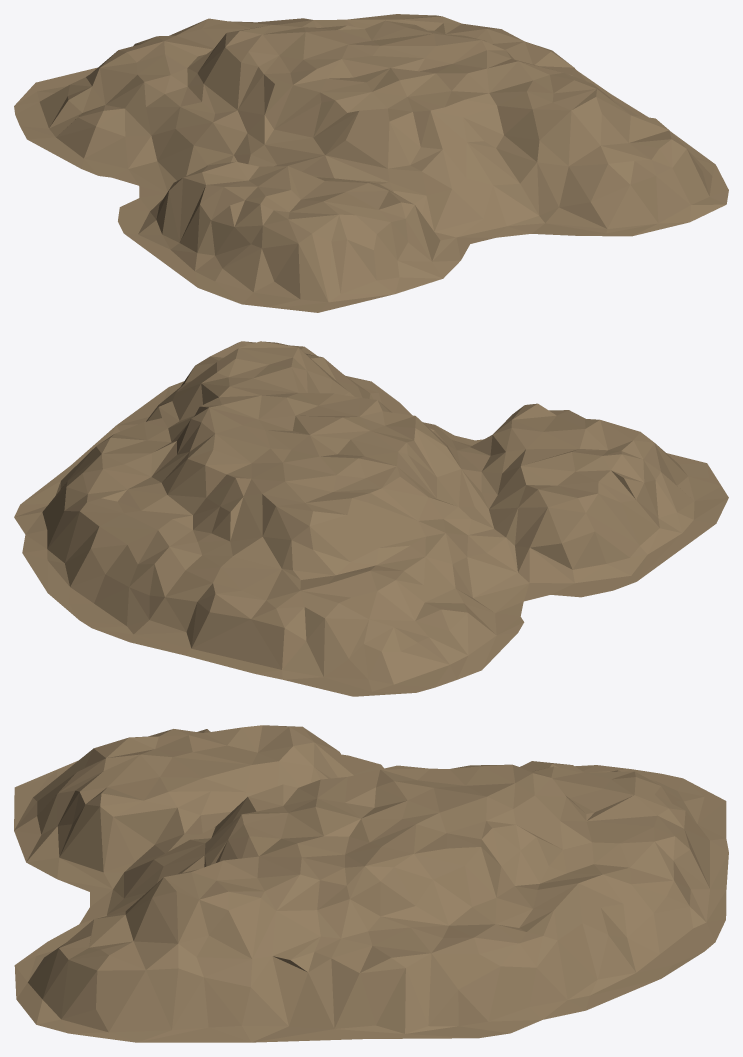
Rendered from SmallTerrain05.fbx.
The picture shows the model from 3 angles, top to bottom: view 1: azimuth 30°, elevation 25°; view 2: azimuth 150°, elevation 25°; view 3: azimuth 270°, elevation 25°; orthographic projection. The views are drawn at different scales.
Parts seen in each view (by area): view 1: SmallTerrain05; view 2: SmallTerrain05; view 3: SmallTerrain05.
Part boxes in pixels (x1,y1,x2,y2): SmallTerrain05: [14, 14, 728, 312]; SmallTerrain05: [14, 341, 728, 696]; SmallTerrain05: [14, 725, 728, 1042].
Size of the model in its own units: 42.68 by 6.92 by 44.21.
